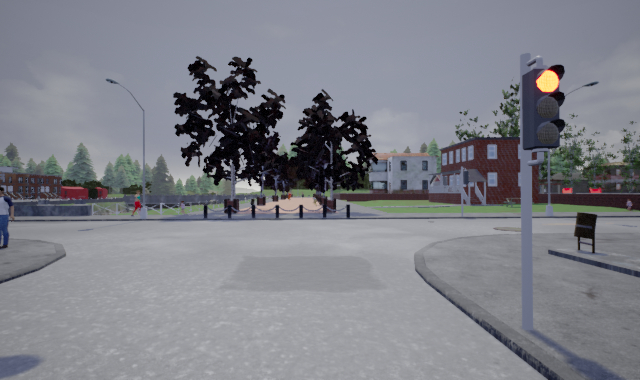pedestrian: (1, 184, 24, 249), (128, 188, 144, 216), (622, 197, 636, 213), (177, 199, 187, 216)
traffic_light: (521, 63, 565, 150)
